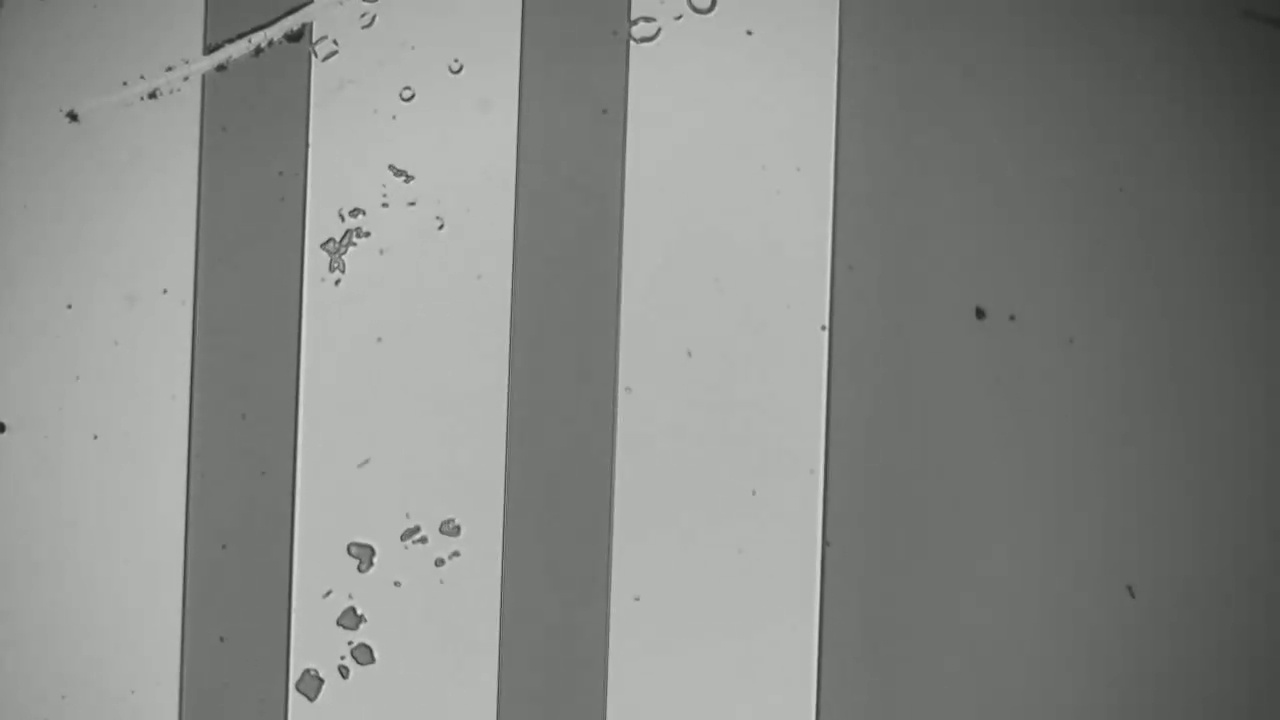Short_circuit: (170, 1, 342, 111)
